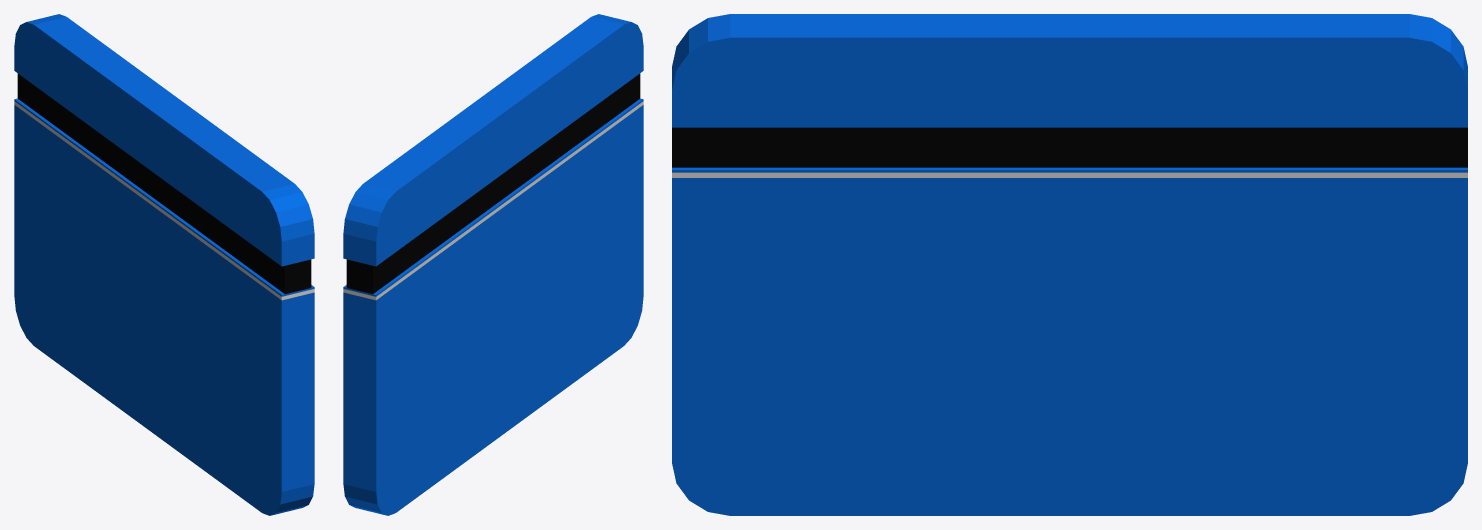
Rendered from KeyCard.fbx.
3 views of the same model, side by side, from view 1: azimuth 30°, elevation 25°; view 2: azimuth 150°, elevation 25°; view 3: azimuth 270°, elevation 25° (orthographic). The views are drawn at different scales.
Parts seen in each view (by area): view 1: Cube; view 2: Cube; view 3: Cube.
Part boxes in pixels (<box>): Cube: <box>14,14,314,515</box>; Cube: <box>343,14,643,515</box>; Cube: <box>672,14,1467,515</box>.
Bounding box in the file's own units: 21.36 × 200 × 302.
